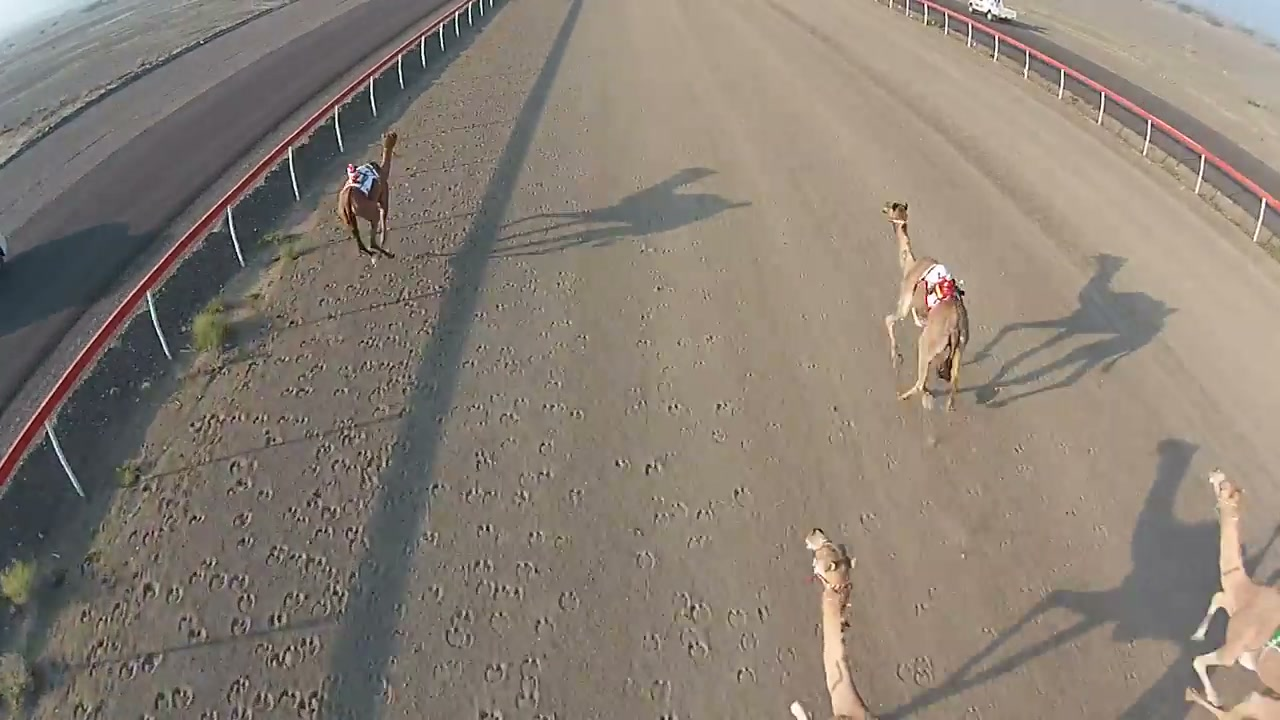animal_foot_print: (104, 266, 435, 719), (446, 258, 599, 684)
